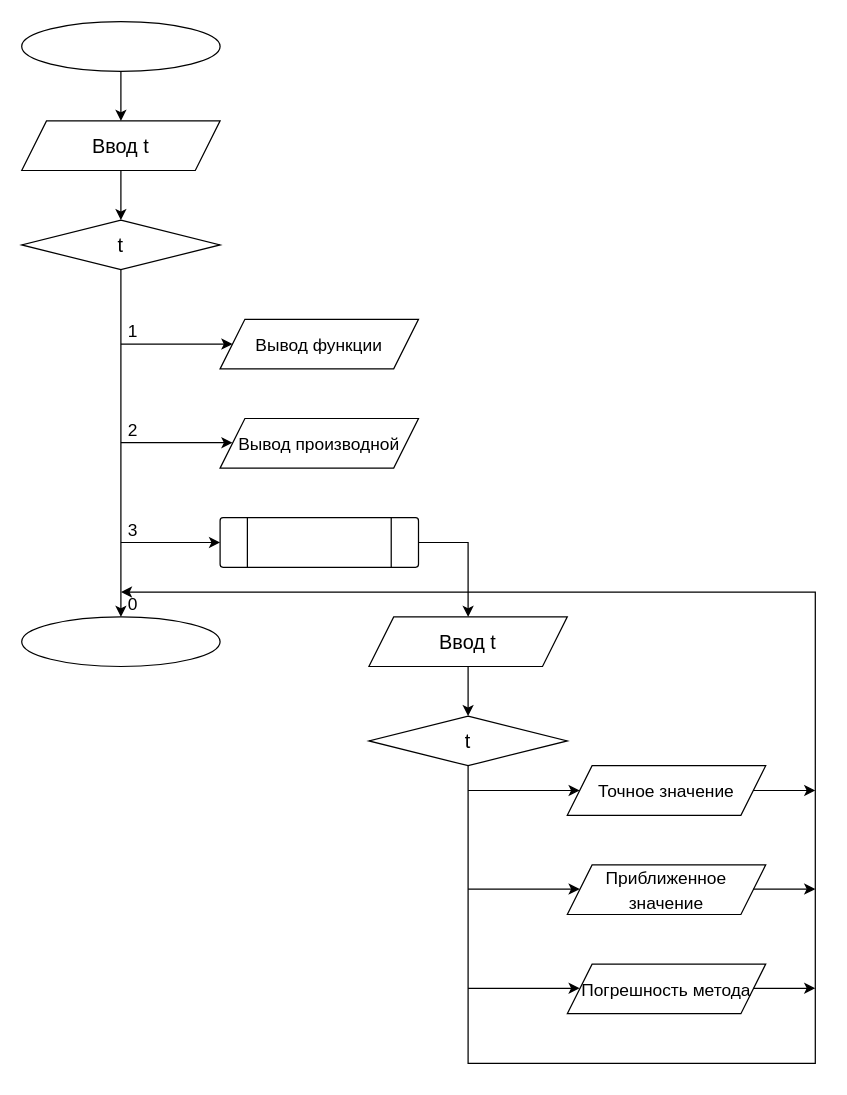
Some shapes in this 847 by 1095 pixel diagram are drawn without their labels. Each missing label, with the centre of its shape:
Конец: point (120, 641)
Нахождение площади: point (318, 541)
Начало: point (120, 45)
